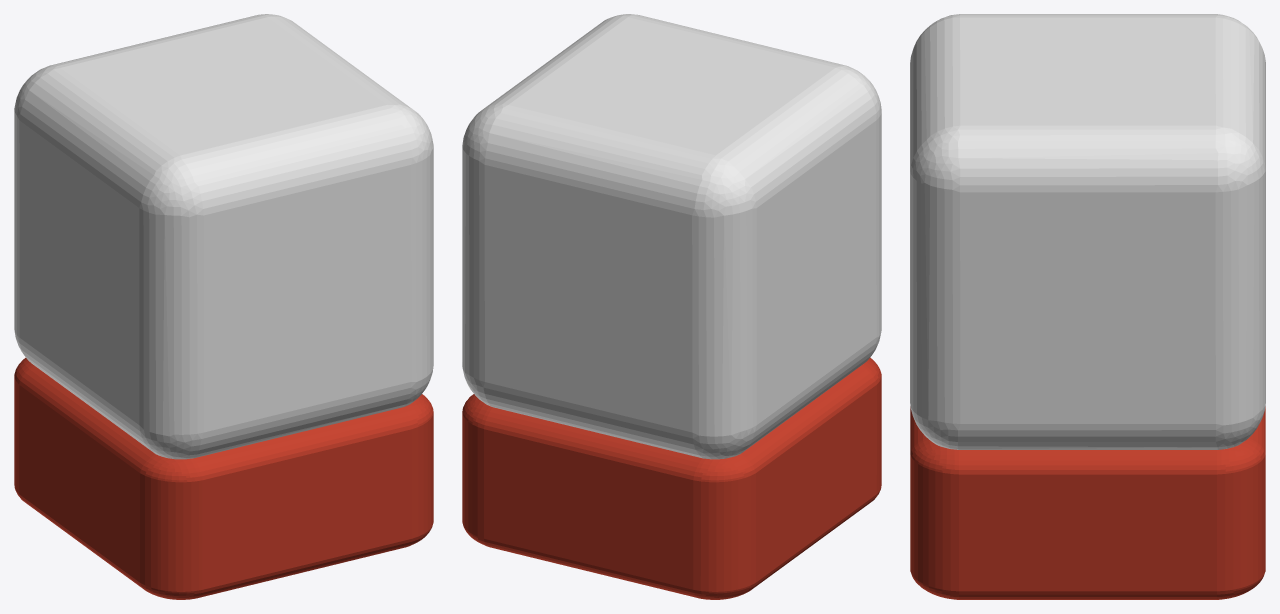
File: wall.glb
The picture shows the model from 3 angles, left to right: view 1: azimuth 30°, elevation 25°; view 2: azimuth 150°, elevation 25°; view 3: azimuth 270°, elevation 25°; orthographic projection. The views are drawn at different scales.
Parts seen in each view (by area): view 1: Upperside, Downside; view 2: Upperside, Downside; view 3: Upperside, Downside.
Part boxes in pixels (x1,y1,x2,y2): Upperside: (14, 14, 433, 459); Downside: (14, 357, 433, 599); Upperside: (462, 14, 881, 459); Downside: (462, 357, 881, 599); Upperside: (910, 14, 1265, 449); Downside: (910, 406, 1265, 599).
Bounding box in the file's own units: 2 × 2.89 × 2.
